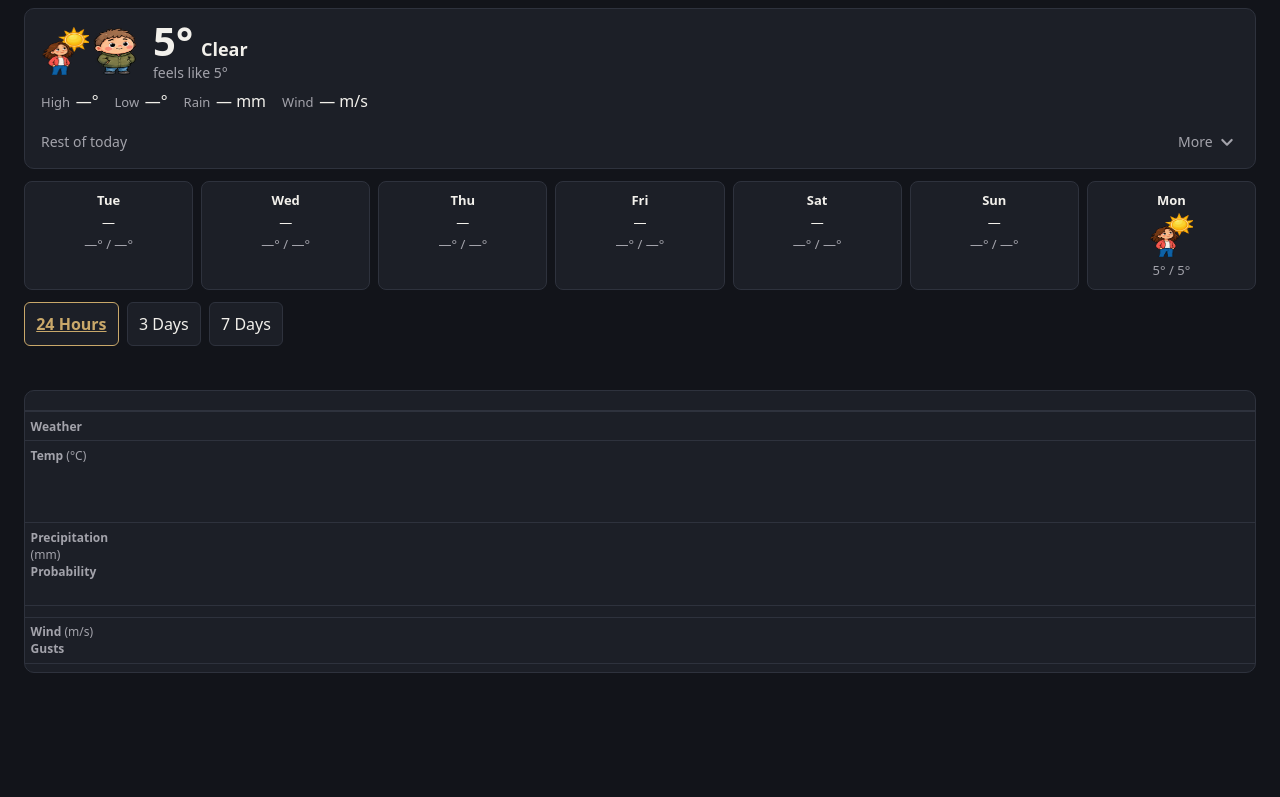
Test case: 3-day view (015-overview-3day-resolution-fix, US2) › shows sub-day columns, not full-day columns, when switched to the 3-day view
Click the button "3 Days" at point(164, 324), box [127,302,201,346]
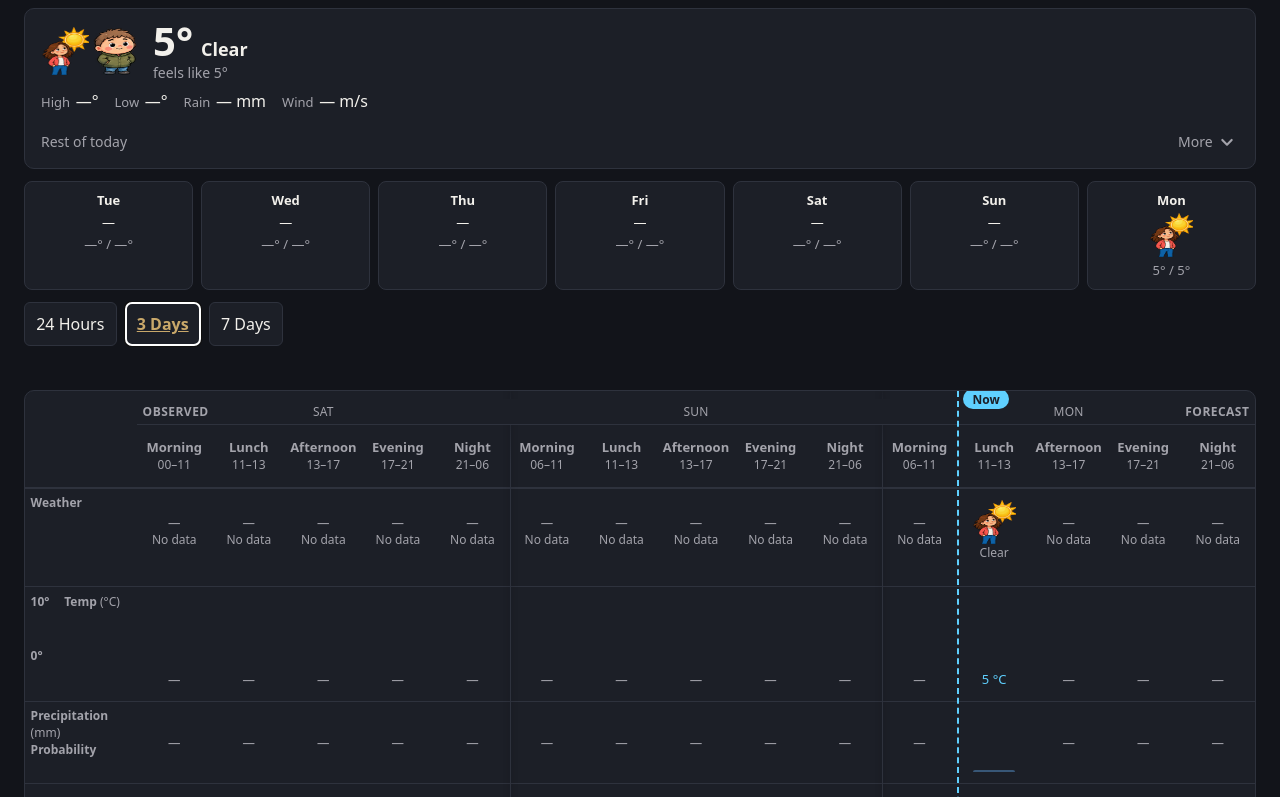
Expected: the text "Morning" is shown, [146,438,202,456]
